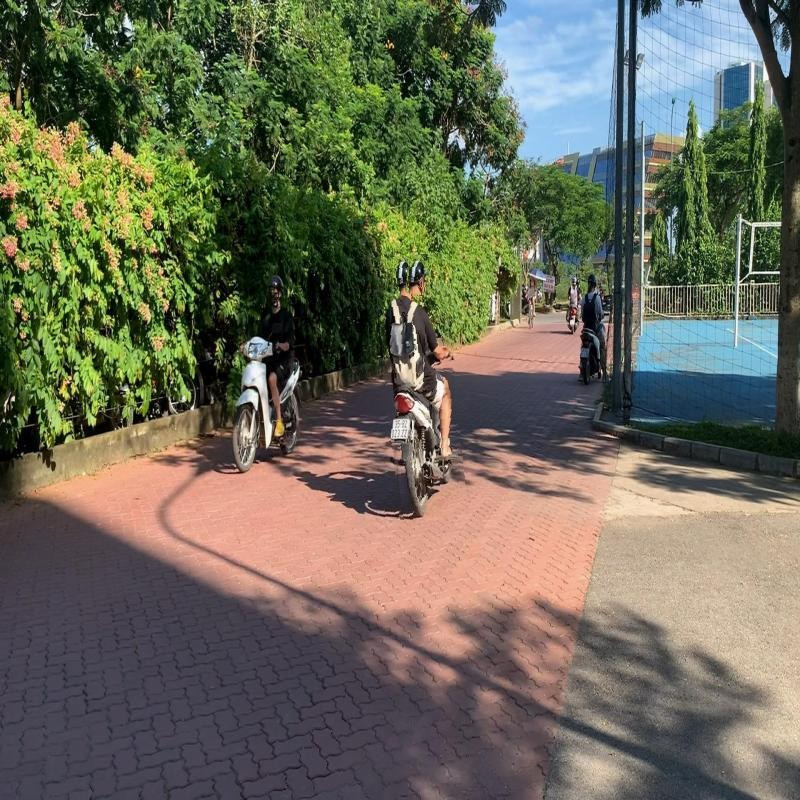helmet: (406, 258, 431, 294)
licenseplate: (390, 416, 412, 443)
motorcyclist: (379, 254, 462, 520)
